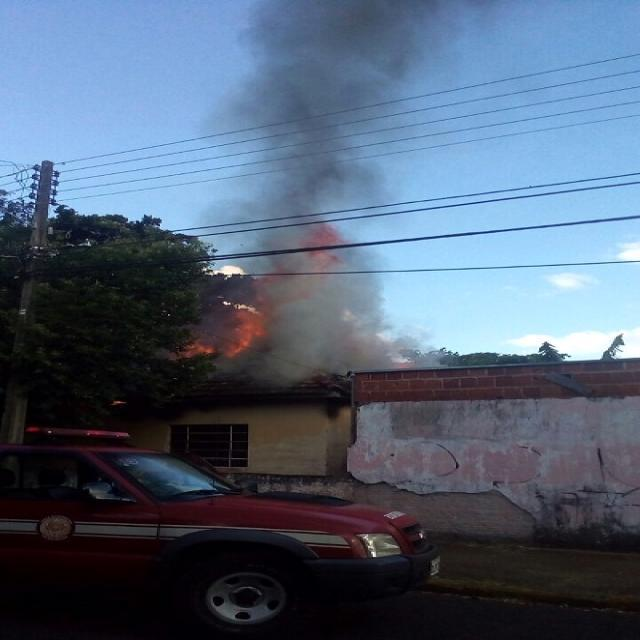Fire: (164, 272, 290, 368)
Smoke: (162, 3, 494, 393)
